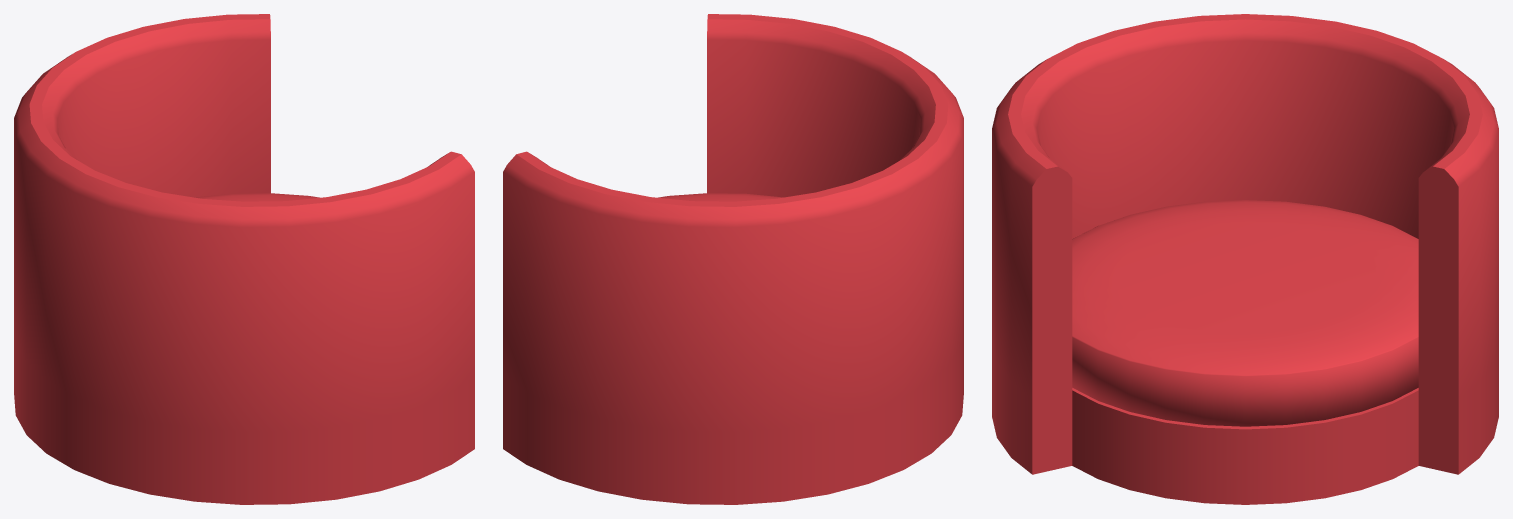
The model's file is Chair.fbx.
3 renders of one model, left to right at view 1: azimuth 30°, elevation 25°; view 2: azimuth 150°, elevation 25°; view 3: azimuth 270°, elevation 25°, orthographic. The views are drawn at different scales.
Visible parts, largest first — view 1: Cylinder.001; view 2: Cylinder.001; view 3: Cylinder.001.
Part boxes in pixels (x1,y1,x2,y2): Cylinder.001: [14, 14, 474, 504]; Cylinder.001: [503, 14, 963, 504]; Cylinder.001: [992, 14, 1498, 504].
Size of the model in its own units: 222 by 160 by 243.
